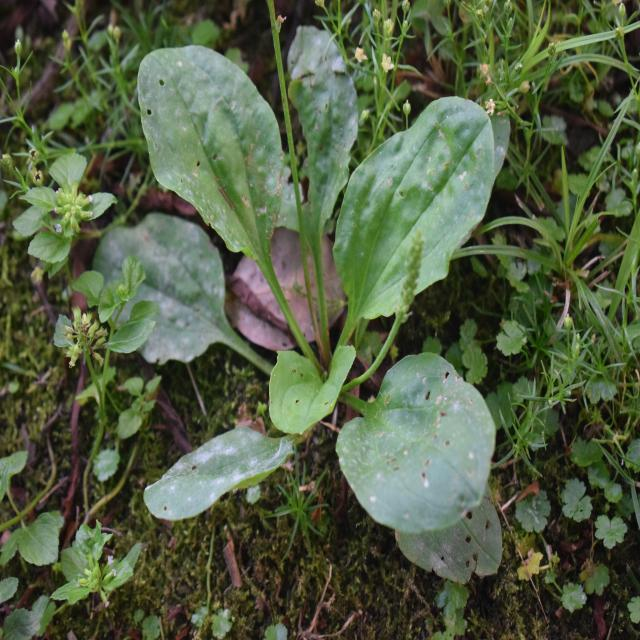plantain: (103, 46, 507, 522)
